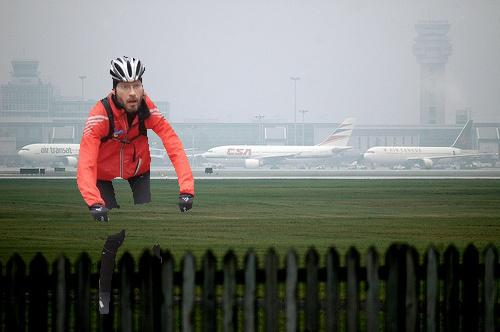tampered: (78, 57, 194, 314)
